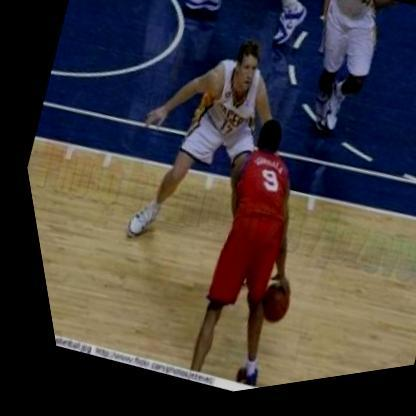basketball: (234, 280, 292, 341)
